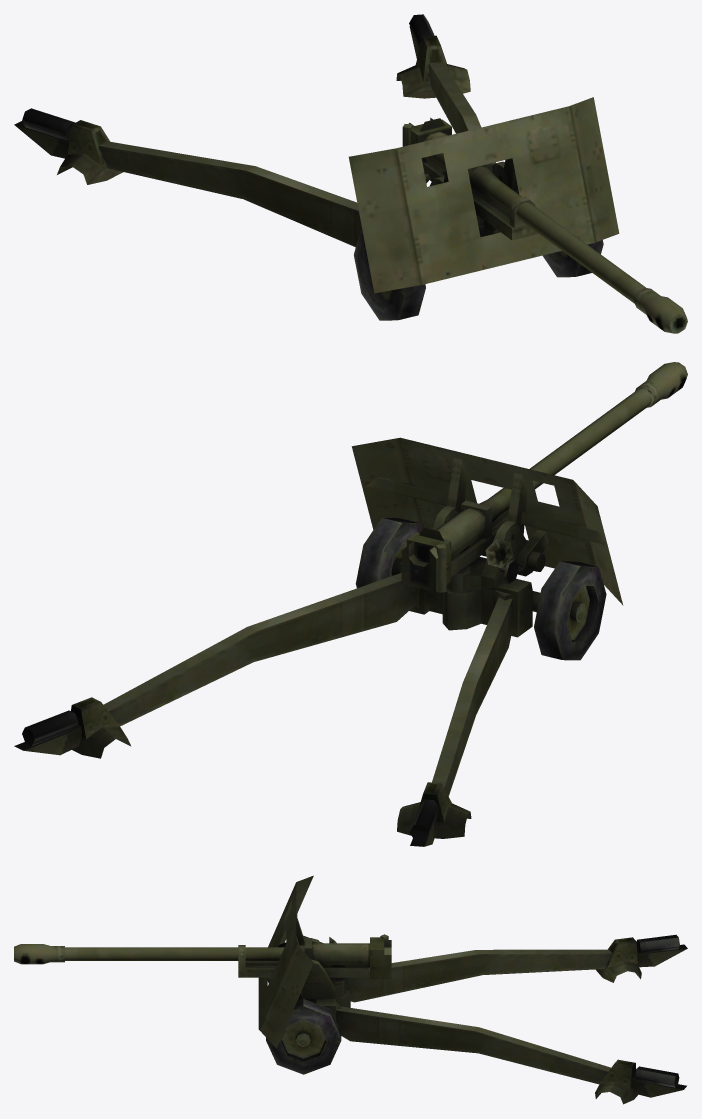
Rendered from GBR17Pdr.dae.
3 renders of one model, top to bottom at view 1: azimuth 30°, elevation 25°; view 2: azimuth 150°, elevation 25°; view 3: azimuth 270°, elevation 25°, orthographic. The views are drawn at different scales.
Parts seen in each view (by area): view 1: carriage, barrel, sleeve; view 2: carriage, barrel, sleeve; view 3: carriage, barrel, sleeve.
Part boxes in pixels (box(x1,y1,x2,y2)): carriage: box(14, 14, 619, 320); barrel: box(402, 117, 687, 333); sleeve: box(422, 162, 537, 240); carriage: box(14, 437, 623, 846); barrel: box(401, 362, 687, 592); sleeve: box(451, 481, 534, 576); carriage: box(258, 875, 687, 1104); barrel: box(14, 934, 391, 979); sleeve: box(238, 945, 369, 979).
Bounding box in the file's own units: 28.49 × 55.67 × 11.52.
